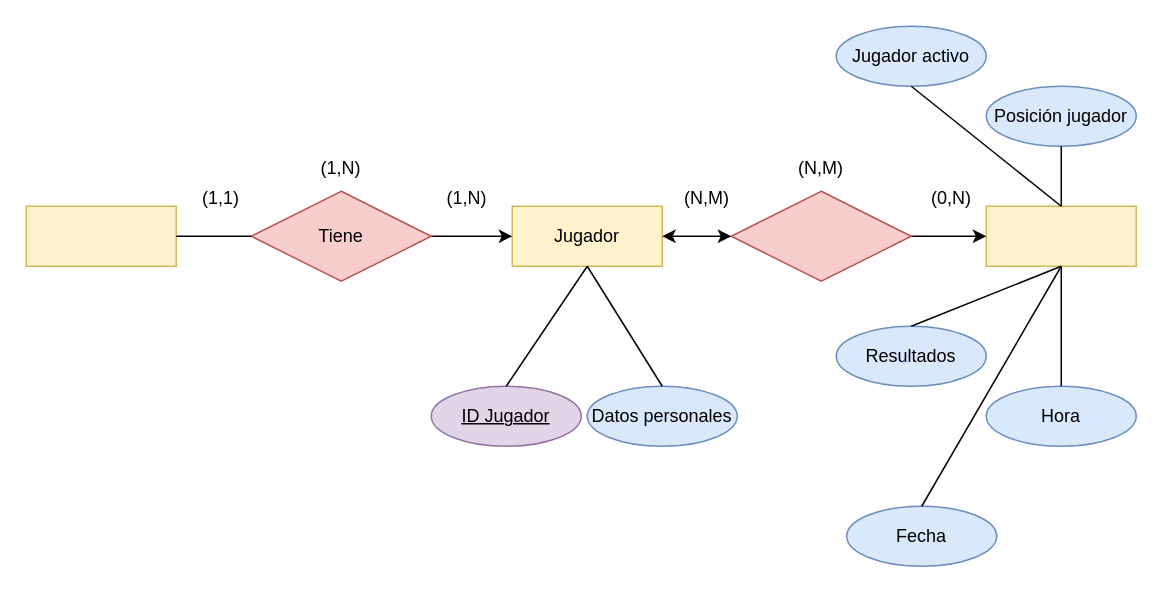
This 1163x593 diagram has some shape labels left out. Here are the shapes that lost their labels. From the top down, the centre of each, then its label:
At [100,235]: "Equipo".
At [820,235]: "Participa".
At [1060,235]: "Partido".
